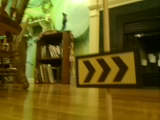right: (76, 51, 139, 85)
